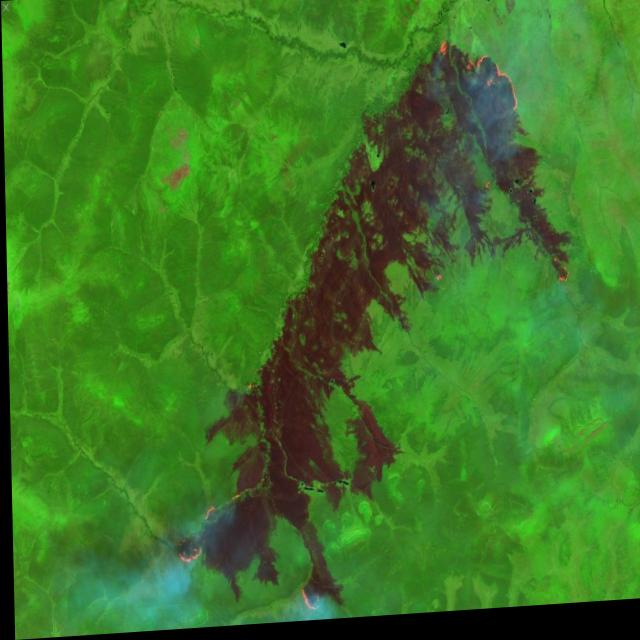fire: (436, 36, 519, 126), (171, 492, 245, 569), (291, 576, 322, 625), (540, 256, 571, 299)
